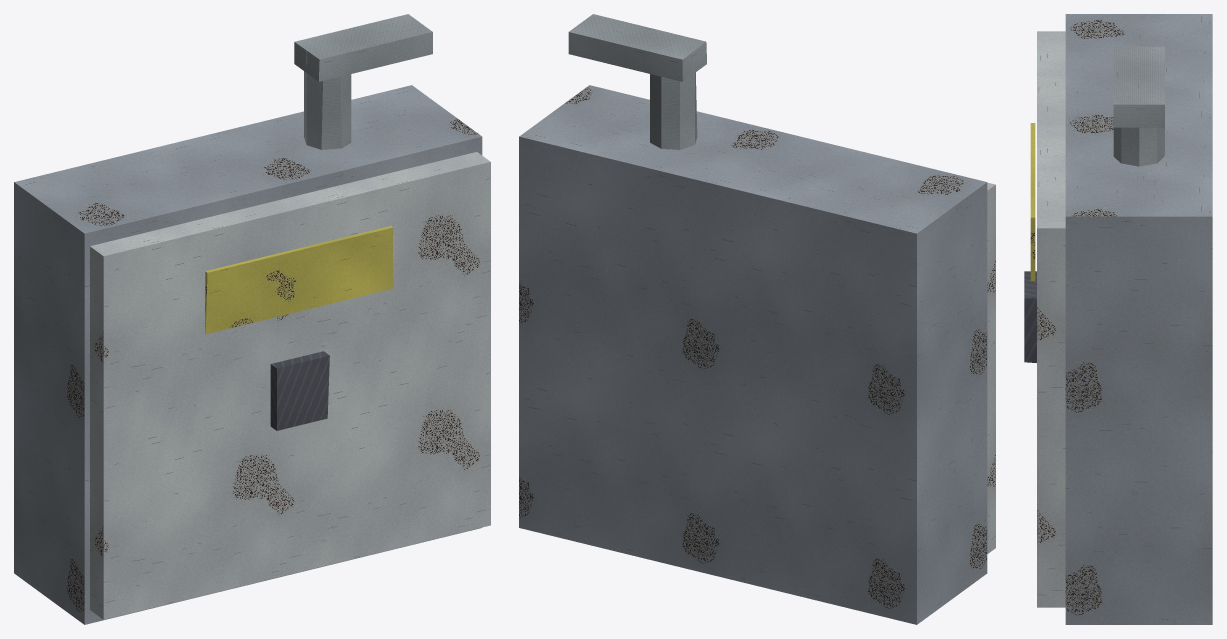
The model's file is utilbox_v4.glb.
3 views of the same model, side by side, from view 1: azimuth 30°, elevation 25°; view 2: azimuth 150°, elevation 25°; view 3: azimuth 270°, elevation 25° (orthographic). The views are drawn at different scales.
Parts seen in each view (by area): view 1: Variant_utilbox_4; view 2: Variant_utilbox_4; view 3: Variant_utilbox_4.
Boxes of the visible parts, x1,y1,x2,y2 form: Variant_utilbox_4: (14,14,490,624); Variant_utilbox_4: (519,14,995,624); Variant_utilbox_4: (1024,14,1212,624).
Size of the model in its own units: 0.3 by 0.35 by 0.118.
Materials: 5 (5 with a texture image).
